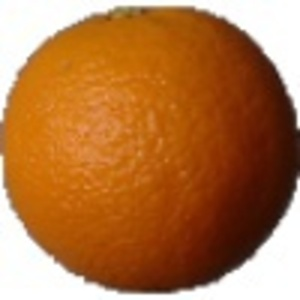laranja: (5, 6, 297, 296)
